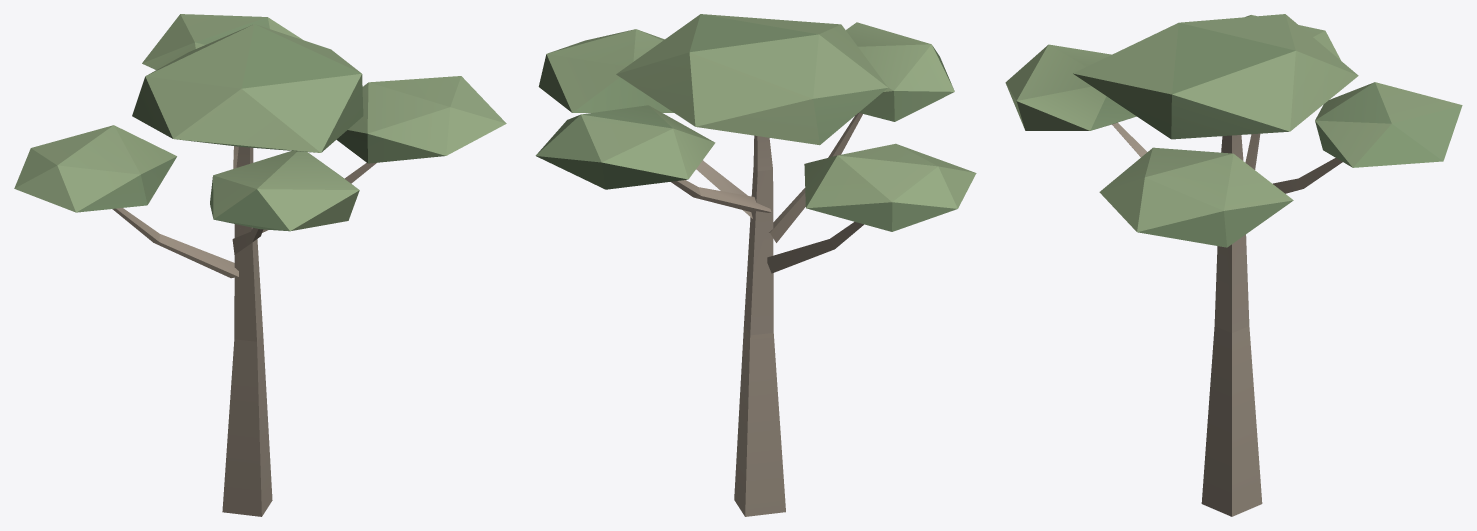
Rendered from pine.lod2.glb.
The picture shows the model from 3 angles, left to right: view 1: azimuth 30°, elevation 25°; view 2: azimuth 150°, elevation 25°; view 3: azimuth 270°, elevation 25°; orthographic projection. The views are drawn at different scales.
Size of the model in its own units: 6.84 by 6.88 by 6.03.
